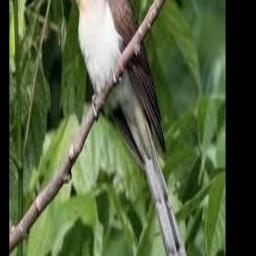Cuckoo: (64, 0, 193, 256)
